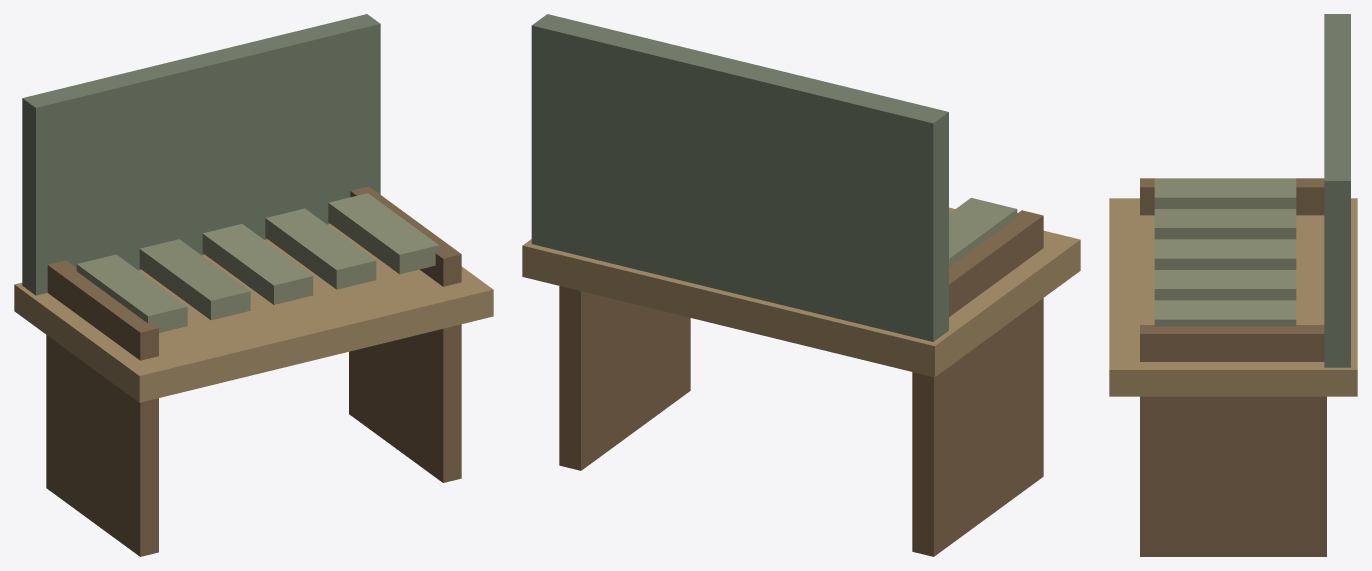
File: map-exclusive-v3__ridge_10.glb
The picture shows the model from 3 angles, left to right: view 1: azimuth 30°, elevation 25°; view 2: azimuth 150°, elevation 25°; view 3: azimuth 270°, elevation 25°; orthographic projection. The views are drawn at different scales.
Visible parts, largest first — view 1: ridge_10; view 2: ridge_10; view 3: ridge_10.
Boxes of the visible parts, x1=… form: ridge_10: x1=14, y1=14, x2=493, y2=556; ridge_10: x1=522, y1=14, x2=1080, y2=556; ridge_10: x1=1109, y1=14, x2=1357, y2=556.
Size of the model in its own units: 1.52 by 1.58 by 0.93.
